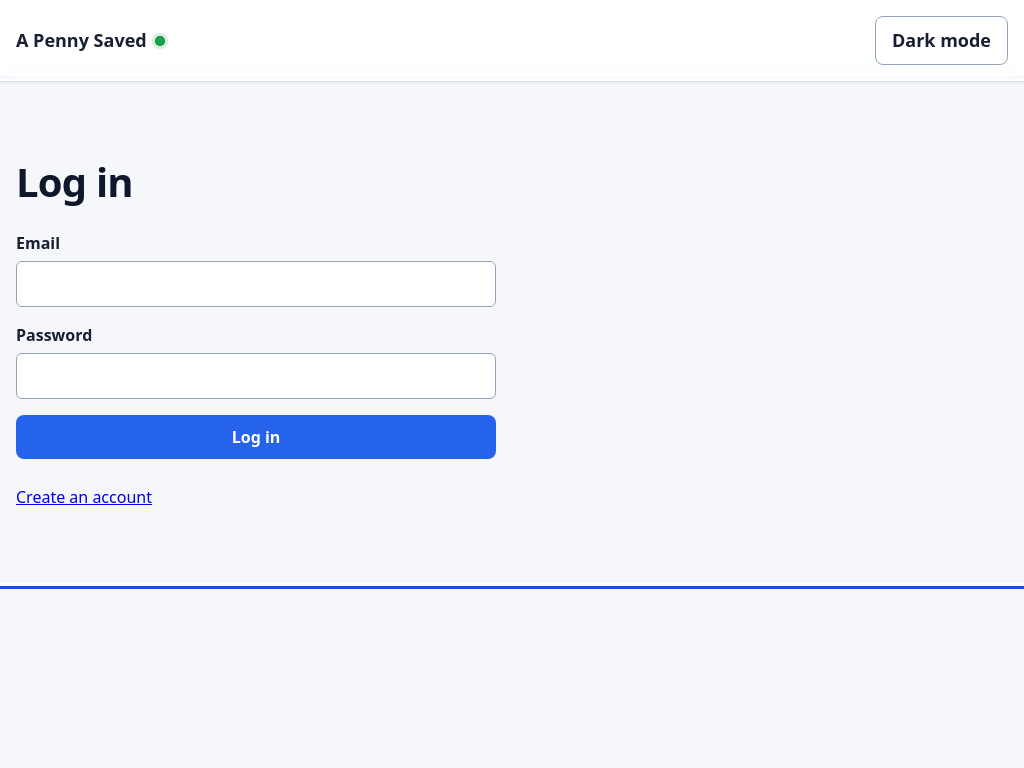
Test case: complete authentication router flow › logs in and returns to the originally requested protected route
Type "person@example.com" into the field labelled "Email". click: coordinates (256, 284)
box: [16,261,496,307]
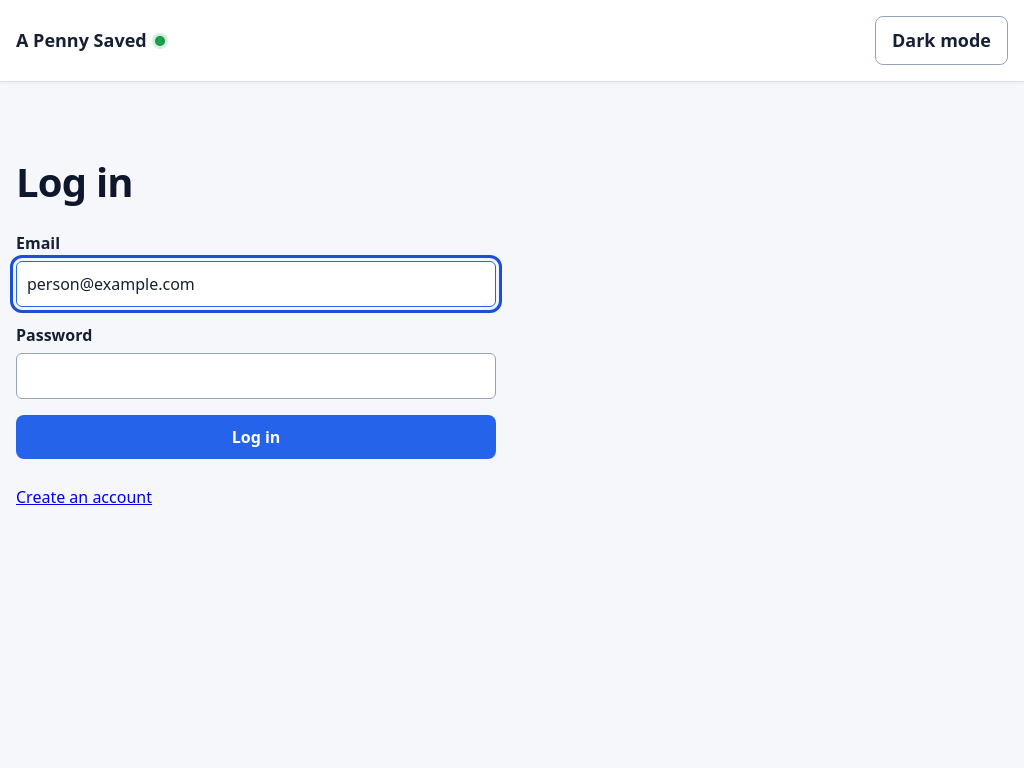
Type "password123" into the password field labelled "Password". click: coordinates (256, 376)
box: [16,353,496,399]
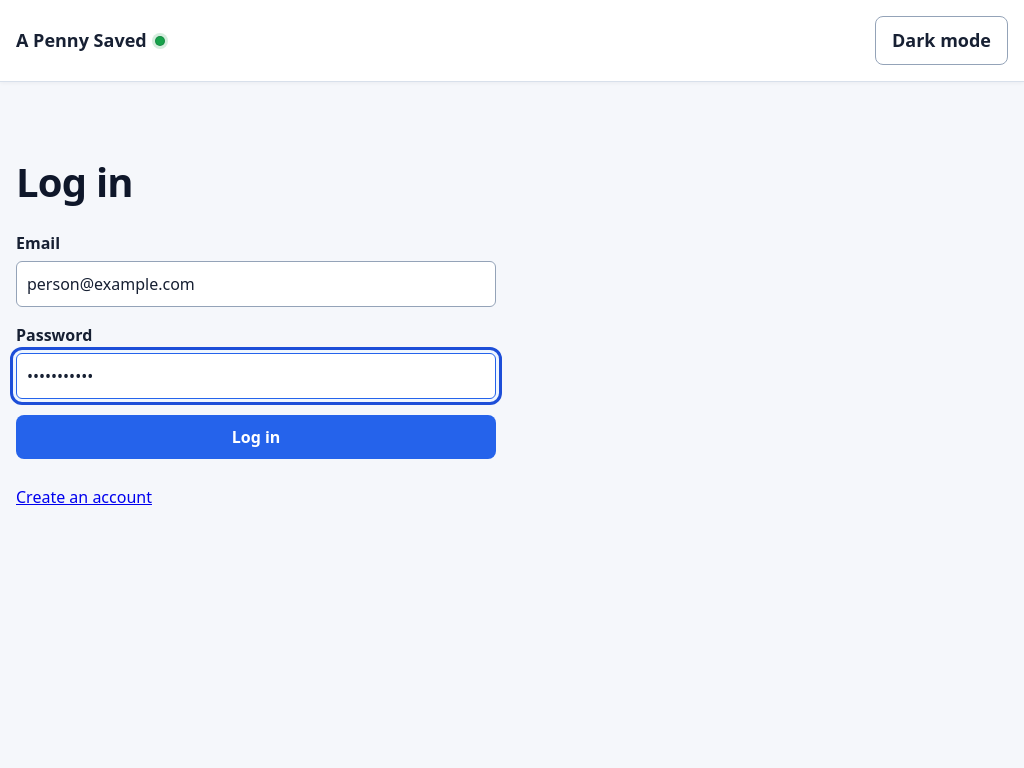
Click the button "Log in". click: coordinates (256, 437)
box: [16,415,496,459]
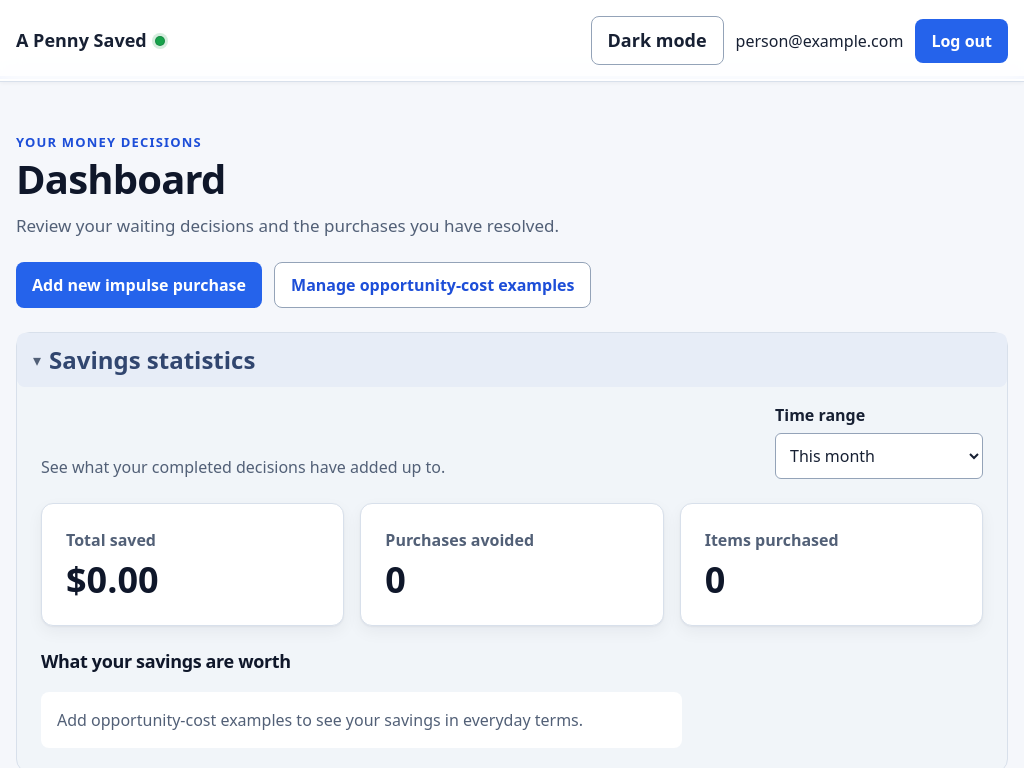
Expected: the heading "Dashboard" is shown, [16,151,226,206]
